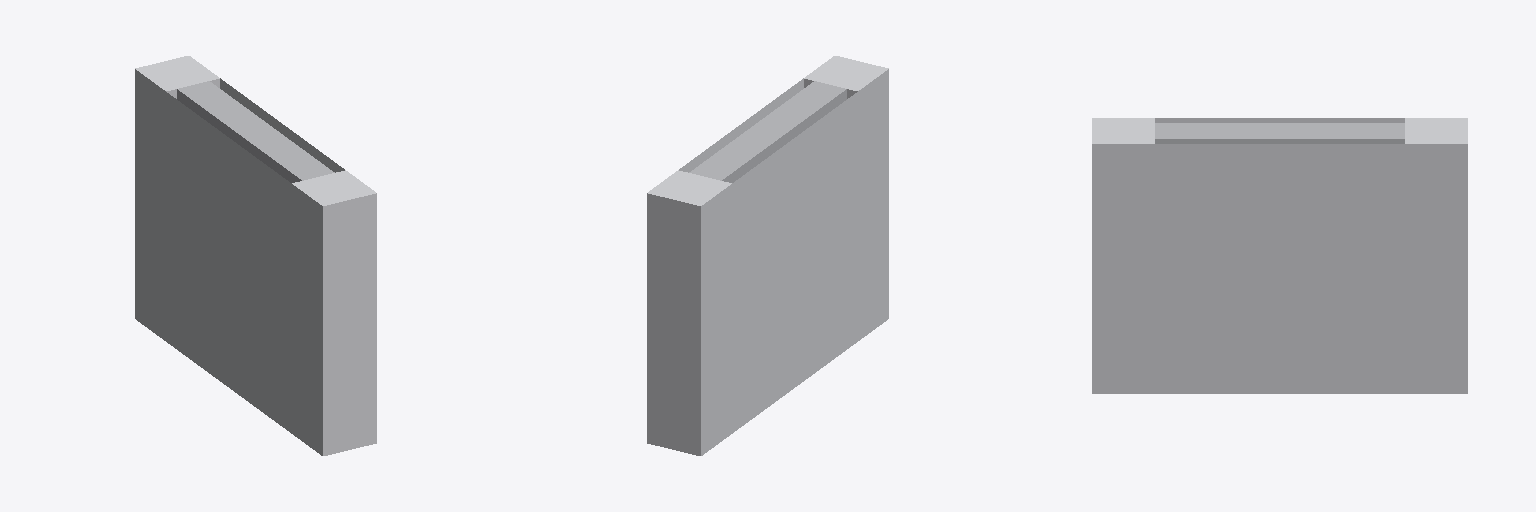
Rendered from M_Grey_Border_Wall_01.obj.
3 views of the same model, side by side, from view 1: azimuth 30°, elevation 25°; view 2: azimuth 150°, elevation 25°; view 3: azimuth 270°, elevation 25° (orthographic).
Visible parts, largest first — view 1: Mesh1_Grey_Border_Wall_Model; view 2: Mesh1_Grey_Border_Wall_Model; view 3: Mesh1_Grey_Border_Wall_Model.
Part boxes in pixels (left/top/right/bottom): Mesh1_Grey_Border_Wall_Model: left=135, top=56, right=376, bottom=455; Mesh1_Grey_Border_Wall_Model: left=647, top=56, right=888, bottom=455; Mesh1_Grey_Border_Wall_Model: left=1092, top=118, right=1467, bottom=393.
Size of the model in its own units: 0.5 by 2.2 by 3.